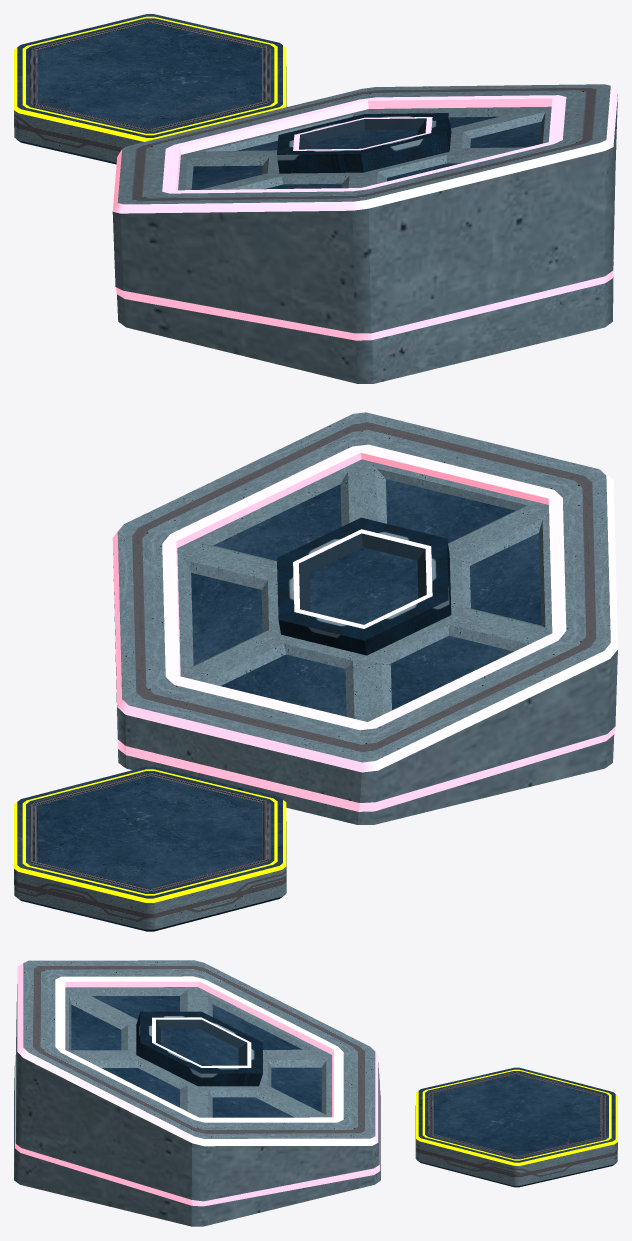
Rendered from entity15850.gltf.
The picture shows the model from 3 angles, top to bottom: view 1: azimuth 30°, elevation 25°; view 2: azimuth 150°, elevation 25°; view 3: azimuth 270°, elevation 25°; orthographic projection. The views are drawn at different scales.
Parts seen in each view (by area): view 1: node_Stand_exhibit_01 (1), node_exhibit_zoom_01_1; view 2: node_Stand_exhibit_01 (1), node_exhibit_zoom_01_1; view 3: node_Stand_exhibit_01 (1), node_exhibit_zoom_01_1.
Boxes of the visible parts, x1,y1,x2,y2 form: node_Stand_exhibit_01 (1): [112, 84, 617, 383]; node_exhibit_zoom_01_1: [14, 14, 286, 164]; node_Stand_exhibit_01 (1): [112, 412, 617, 824]; node_exhibit_zoom_01_1: [14, 766, 286, 931]; node_Stand_exhibit_01 (1): [14, 960, 380, 1226]; node_exhibit_zoom_01_1: [415, 1067, 617, 1187].
Size of what is drawn, in the model's own units: 2.15 by 0.7591 by 3.05.
4 materials, 2 textured.
